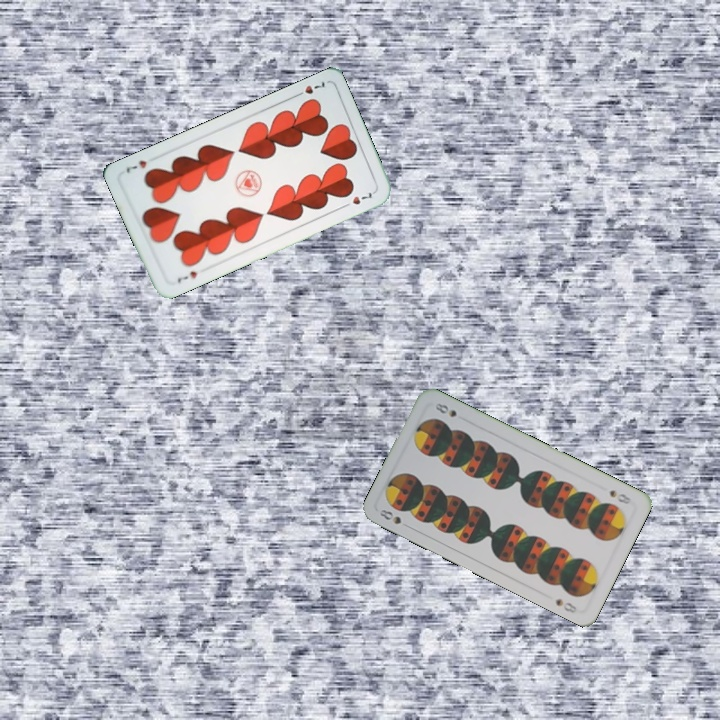H7: (290, 77, 327, 100), (173, 267, 199, 285)
S8: (376, 505, 404, 527), (605, 486, 634, 507)
